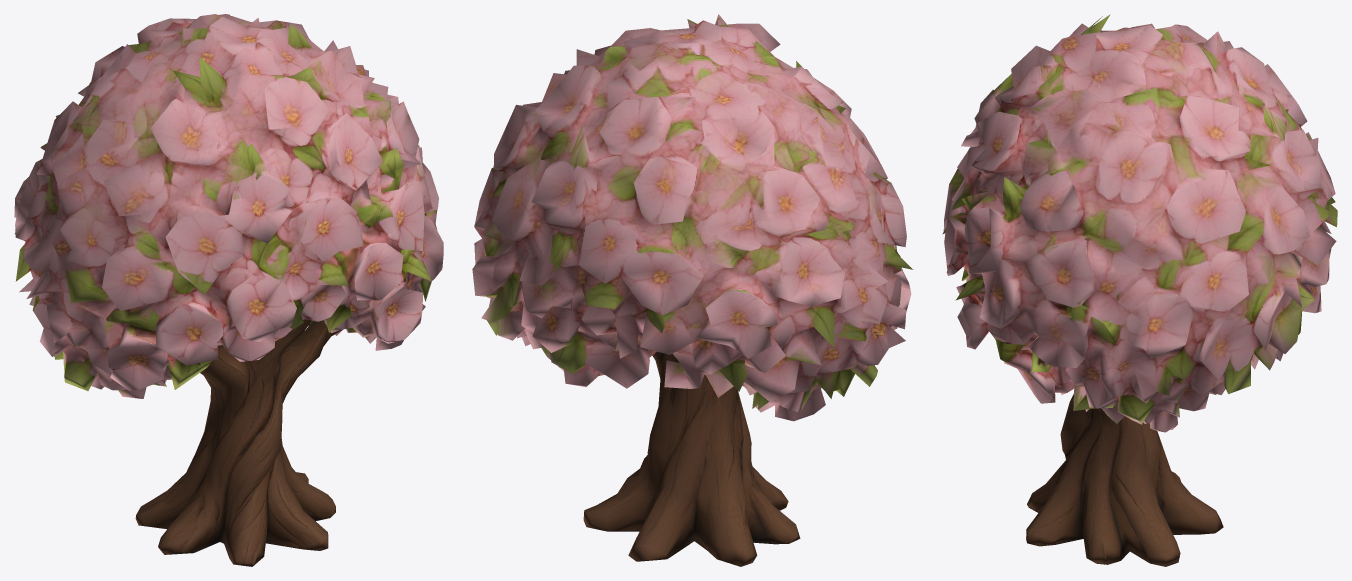
Rendered from pink blossom tree 3d model.glb.
3 views of the same model, side by side, from view 1: azimuth 30°, elevation 25°; view 2: azimuth 150°, elevation 25°; view 3: azimuth 270°, elevation 25° (orthographic).
Visible parts, largest first — view 1: tripo_node_b66a2a74-cf4a-4485-b101-4f4fc71d2e0b; view 2: tripo_node_b66a2a74-cf4a-4485-b101-4f4fc71d2e0b; view 3: tripo_node_b66a2a74-cf4a-4485-b101-4f4fc71d2e0b.
Boxes of the visible parts, x1,y1,x2,y2 form: tripo_node_b66a2a74-cf4a-4485-b101-4f4fc71d2e0b: (14,14,443,566); tripo_node_b66a2a74-cf4a-4485-b101-4f4fc71d2e0b: (472,14,913,566); tripo_node_b66a2a74-cf4a-4485-b101-4f4fc71d2e0b: (942,14,1337,566).
Size of the model in its own units: 0.834 by 0.9984 by 0.7274.
Materials: 1 (1 with a texture image).
